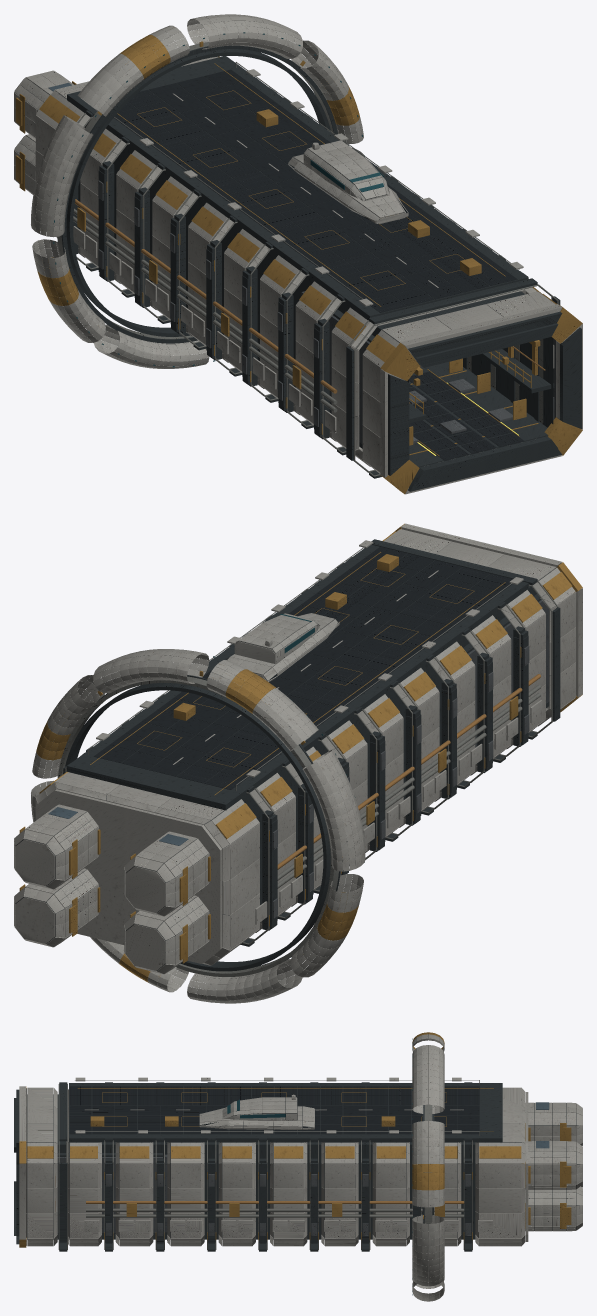
File: model-outline.glb
The picture shows the model from 3 angles, top to bottom: view 1: azimuth 30°, elevation 25°; view 2: azimuth 150°, elevation 25°; view 3: azimuth 270°, elevation 25°; orthographic projection. The views are drawn at different scales.
Parts seen in each view (by area): view 1: dark-structure, flight-deck, pale-steel-0, ochre-0, machined-alloy, rotor:pale-steel-0, rotor:pale-steel-1, rotor:pale-steel-2, pale-steel-1, rotor:ochre-0, armour-2, pale-steel-2 (+4 smaller); view 2: pale-steel-0, dark-structure, flight-deck, ochre-0, bastion-aft-bulkhead, rotor:pale-steel-0, rotor:pale-steel-1, rotor:pale-steel-2, machined-alloy, pale-steel-1, rotor:ochre-0, rotor:machined-alloy (+4 smaller); view 3: pale-steel-0, dark-structure, flight-deck, ochre-0, machined-alloy, pale-steel-1, rotor:pale-steel-1, rotor:pale-steel-0, armour-0, armour-2, pale-steel-2, rotor:ochre-0 (+3 smaller).
Part boxes in pixels (bbox=[...]): dark-structure: bbox=[58, 49, 581, 491]; flight-deck: bbox=[114, 69, 523, 460]; pale-steel-0: bbox=[14, 56, 582, 494]; ochre-0: bbox=[15, 56, 582, 494]; machined-alloy: bbox=[73, 62, 558, 476]; rotor:pale-steel-0: bbox=[31, 40, 363, 237]; rotor:pale-steel-1: bbox=[32, 14, 363, 342]; rotor:pale-steel-2: bbox=[77, 25, 209, 368]; pale-steel-1: bbox=[53, 69, 554, 433]; rotor:ochre-0: bbox=[37, 35, 359, 305]; armour-2: bbox=[98, 180, 554, 443]; pale-steel-2: bbox=[294, 140, 408, 223]; pale-steel-0: bbox=[14, 523, 582, 974]; dark-structure: bbox=[63, 539, 560, 971]; flight-deck: bbox=[94, 546, 512, 789]; ochre-0: bbox=[19, 523, 582, 963]; bastion-aft-bulkhead: bbox=[36, 789, 222, 963]; rotor:pale-steel-0: bbox=[32, 675, 365, 992]; rotor:pale-steel-1: bbox=[31, 649, 363, 977]; rotor:pale-steel-2: bbox=[187, 660, 318, 1003]; machined-alloy: bbox=[65, 547, 558, 944]; pale-steel-1: bbox=[96, 540, 542, 924]; rotor:ochre-0: bbox=[36, 669, 358, 982]; rotor:machined-alloy: bbox=[57, 676, 338, 976]; pale-steel-0: bbox=[19, 1086, 582, 1246]; dark-structure: bbox=[14, 1082, 521, 1251]; flight-deck: bbox=[69, 1086, 479, 1134]; ochre-0: bbox=[19, 1086, 571, 1247]; machined-alloy: bbox=[58, 1080, 479, 1249]; pale-steel-1: bbox=[75, 1077, 492, 1231]; rotor:pale-steel-1: bbox=[412, 1045, 444, 1286]; rotor:pale-steel-0: bbox=[412, 1121, 444, 1301]; armour-0: bbox=[26, 1154, 167, 1232]; armour-2: bbox=[106, 1174, 471, 1235]; pale-steel-2: bbox=[200, 1097, 302, 1129]; rotor:ochre-0: bbox=[412, 1032, 444, 1218].
Bounding box in the file's own units: 189 × 189 × 399.
14 materials, 12 textured.
